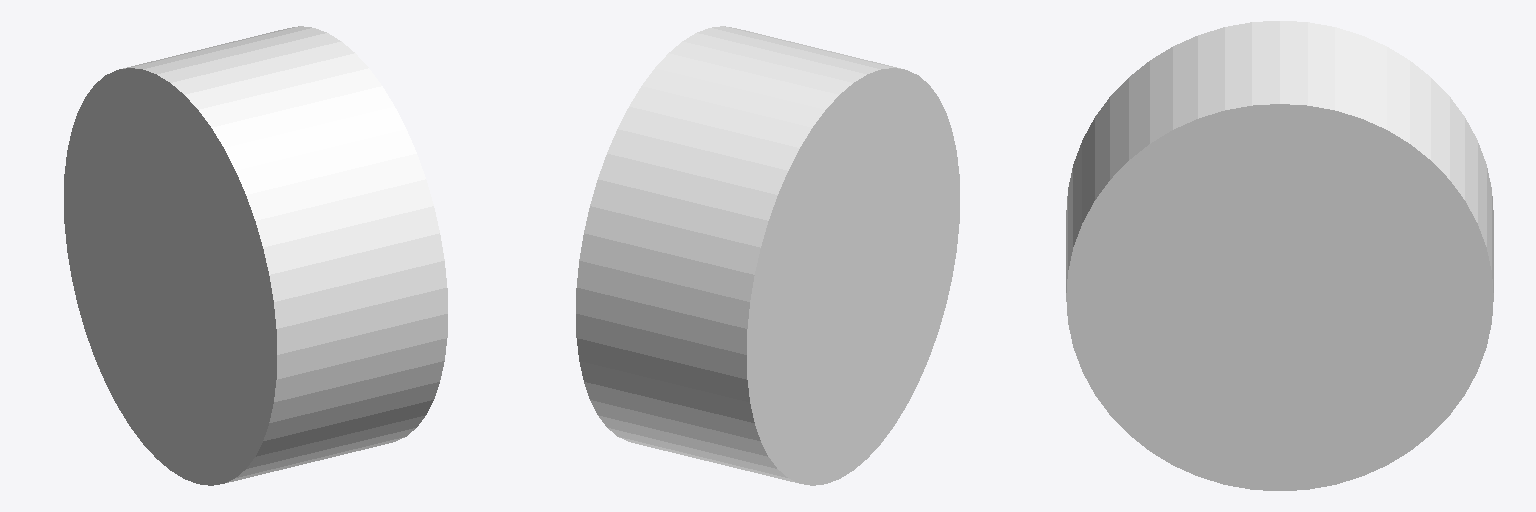
File: WheelShape28.obj
3 renders of one model, left to right at view 1: azimuth 30°, elevation 25°; view 2: azimuth 150°, elevation 25°; view 3: azimuth 270°, elevation 25°, orthographic.
Parts seen in each view (by area): view 1: SketchUp; view 2: SketchUp; view 3: SketchUp.
Boxes of the visible parts, x1=… form: SketchUp: x1=64, y1=26, x2=447, y2=485; SketchUp: x1=576, y1=26, x2=959, y2=485; SketchUp: x1=1066, y1=21, x2=1493, y2=490.
Bounding box in the file's own units: 0.0238 × 0.0516 × 0.0516.